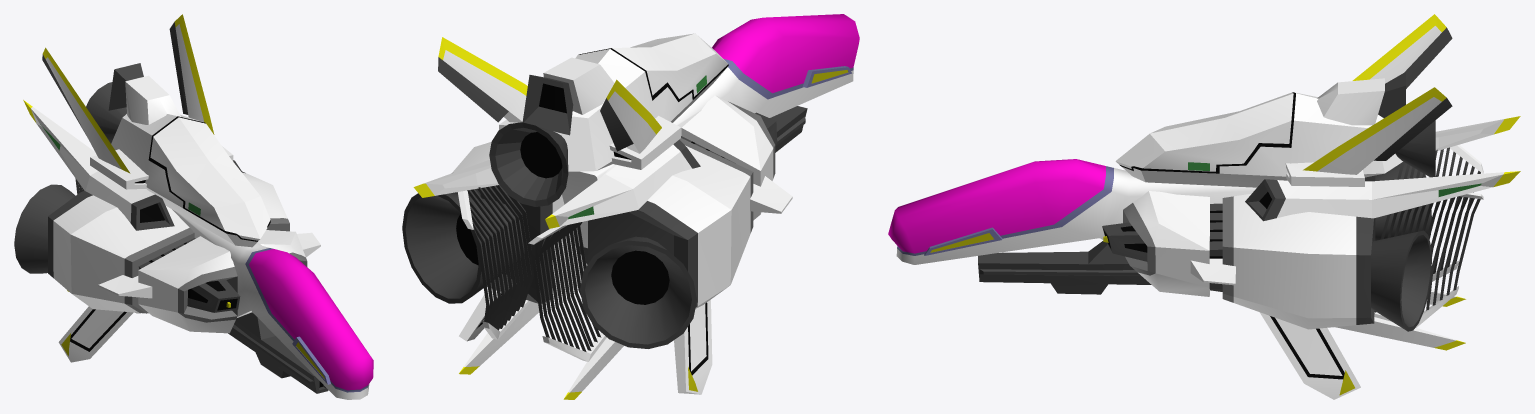
File: player2.glb
3 views of the same model, side by side, from view 1: azimuth 30°, elevation 25°; view 2: azimuth 150°, elevation 25°; view 3: azimuth 270°, elevation 25° (orthographic). The views are drawn at different scales.
Parts seen in each view (by area): view 1: r-90; view 2: r-90; view 3: r-90.
Part boxes in pixels (box(x1,y1,x2,y2)): r-90: box(14, 14, 373, 399); r-90: box(402, 14, 859, 399); r-90: box(888, 14, 1520, 399).
Bounding box in the file's own units: 5.1 × 5.81 × 11.03.
1 material, 1 textured.
